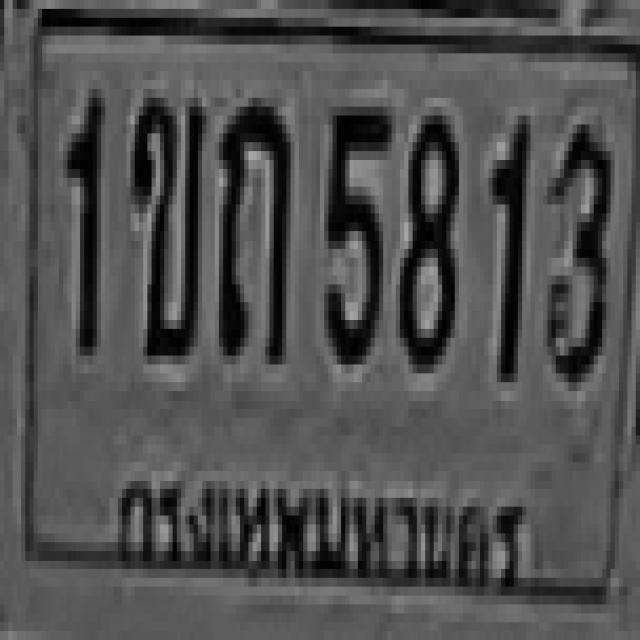1: (63, 80, 101, 347), (488, 107, 526, 373)
11KhorKhai: (131, 89, 202, 355)
3: (543, 115, 606, 374)
31ThorThung: (215, 89, 286, 355)
5: (320, 97, 387, 356)
8: (396, 106, 455, 364)
Bangkok: (105, 456, 529, 608)
